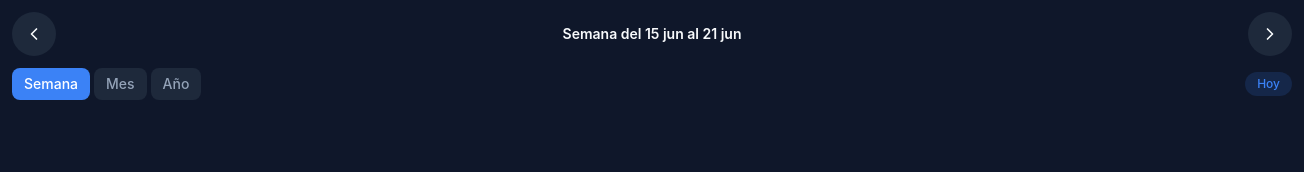
Test case: PeriodoNavegacion.svelte › navegación (AC-04, AC-05, AC-06, AC-07) › click en Anterior cambia la fecha de referencia para semana (AC-04)
The width and height of the screenshot is (1304, 172).
Click the button named "Periodo anterior".
click(34, 34)  # box [12, 12, 56, 56]
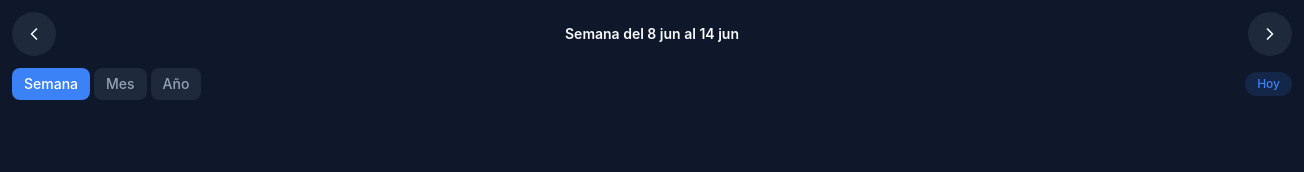
Expected: the button "Semana del 8 jun al 14 jun" is shown, [60, 16, 1244, 52]
